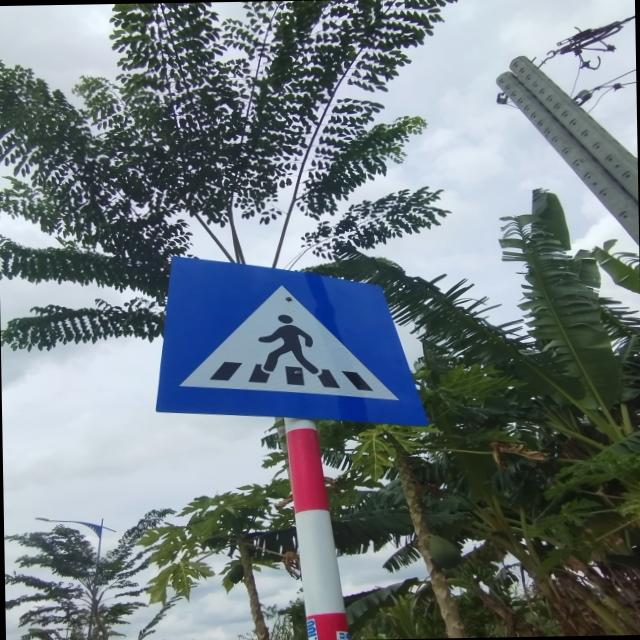Giao_Nhau_Duong_Uu_Tien: (150, 249, 430, 429)
